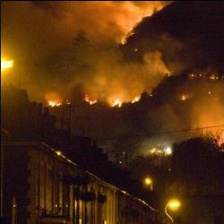fire: (1, 20, 224, 119)
